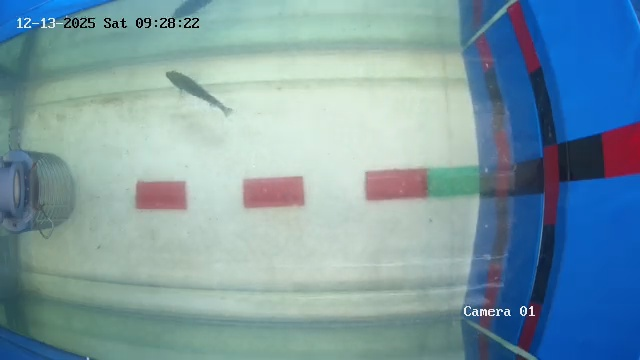fish: (165, 63, 231, 128)
